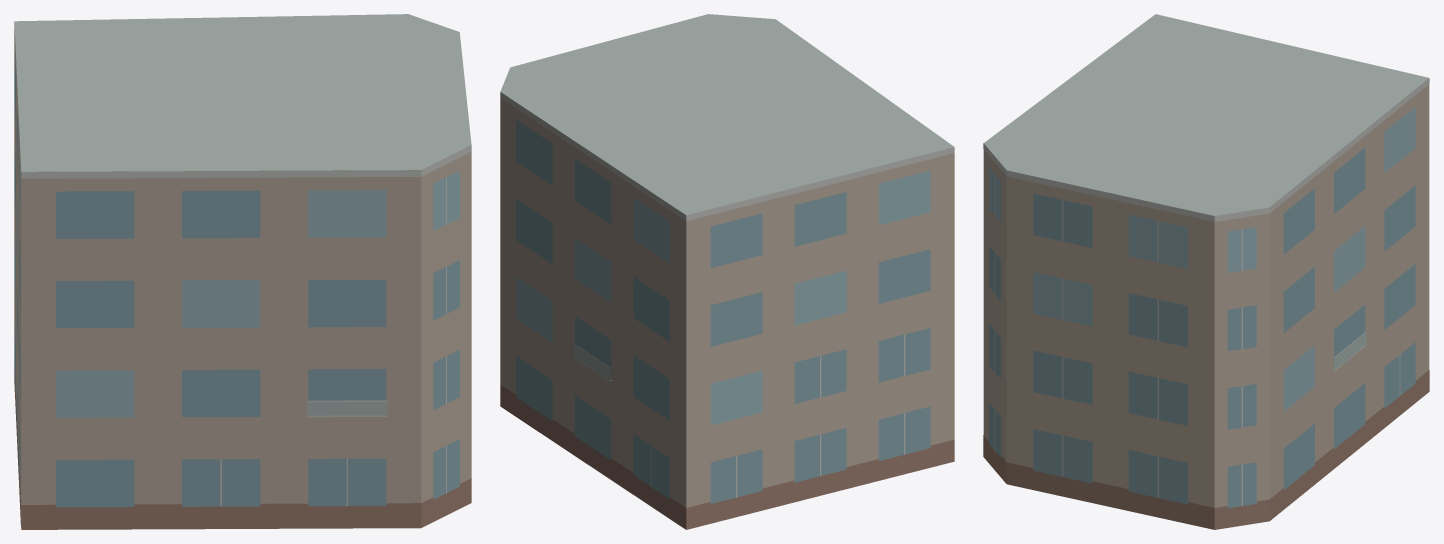
File: survey-upis-32918292.glb
3 renders of one model, left to right at view 1: azimuth 30°, elevation 25°; view 2: azimuth 150°, elevation 25°; view 3: azimuth 270°, elevation 25°, orthographic. The views are drawn at different scales.
Visible parts, largest first — view 1: survey-upis-32918292.tmp; view 2: survey-upis-32918292.tmp; view 3: survey-upis-32918292.tmp.
Part boxes in pixels (bbox=[...]): survey-upis-32918292.tmp: bbox=[14, 14, 471, 529]; survey-upis-32918292.tmp: bbox=[500, 14, 954, 529]; survey-upis-32918292.tmp: bbox=[983, 14, 1429, 529].
Bounding box in the file's own units: 17.68 × 12.8 × 16.48.
